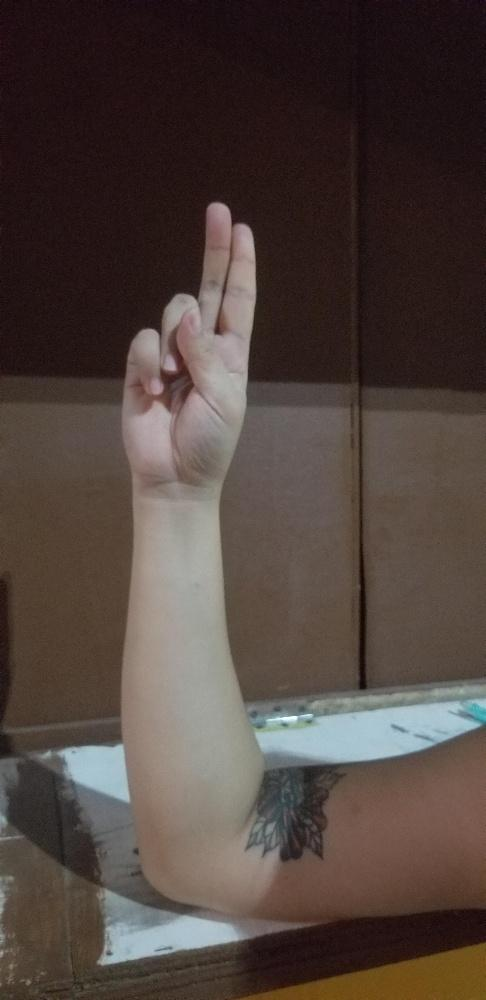u: (119, 198, 259, 486)
